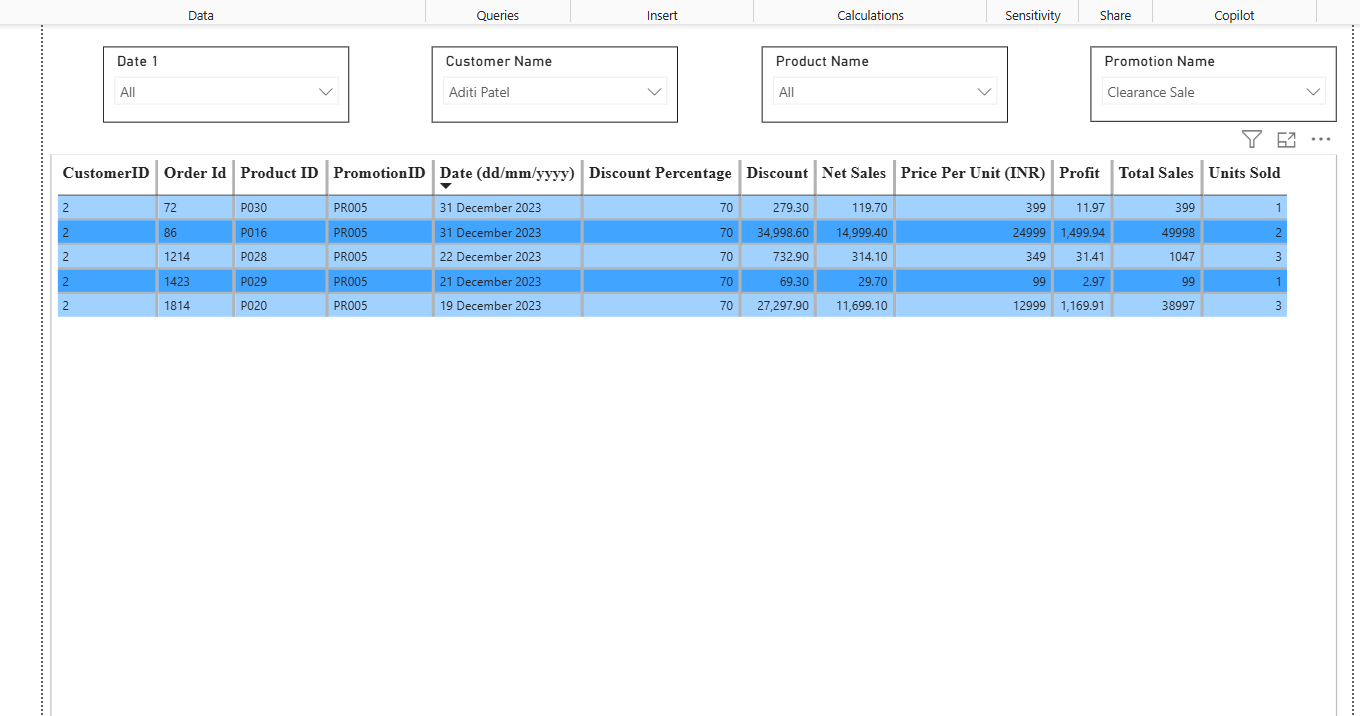

The page's visual inventory and layout, read from the dashboard file:
{"tool":"powerbi","page":{"name":"Table Visual","canvas":[1280,720],"ordinal":4},"visuals":[{"type":"tableEx","fields":{"Values":["Fact Table.CustomerID","Fact Table.Order Id","Fact Table.Product ID","Fact Table.PromotionID","Fact Table.Date (dd/mm/yyyy)","Fact Table.Discount Percentage","Fact Table.Discount","Fact Table.Net Sales","Fact Table.Price  Per Unit (INR)","Fact Table.Profit","Fact Table.Total Sales","Fact Table.Units Sold"]},"box":[7.3,126.9,1258.3,593.1],"z":0},{"type":"slicer","fields":{"Values":["Date Table 1.Date"]},"box":[58.7,22,240.9,74.6],"z":1000},{"type":"slicer","fields":{"Values":["Dim Customers.Customer Name"]},"box":[380.7,22,240.9,74.6],"z":2000},{"type":"slicer","fields":{"Values":["Dim Product.Product Name"]},"box":[702.7,22,240.9,74.6],"z":3000},{"type":"slicer","fields":{"Values":["Dim Promotion.Promotion Name"]},"box":[1024.7,22,240.9,73.4],"z":4000}]}

Visuals, with their boxes on the page's 1280x720 design canvas (x1, y1, x2, y2). These are canvas units, not pixel positions in the 1360x716 screenshot, which may show the page scaled, cropped or inside an application window:
tableEx - Fact Table.CustomerID x Fact Table.Order Id: <box>7,127,1266,720</box>
slicer - Date Table 1.Date: <box>59,22,300,97</box>
slicer - Dim Customers.Customer Name: <box>381,22,622,97</box>
slicer - Dim Product.Product Name: <box>703,22,944,97</box>
slicer - Dim Promotion.Promotion Name: <box>1025,22,1266,95</box>
